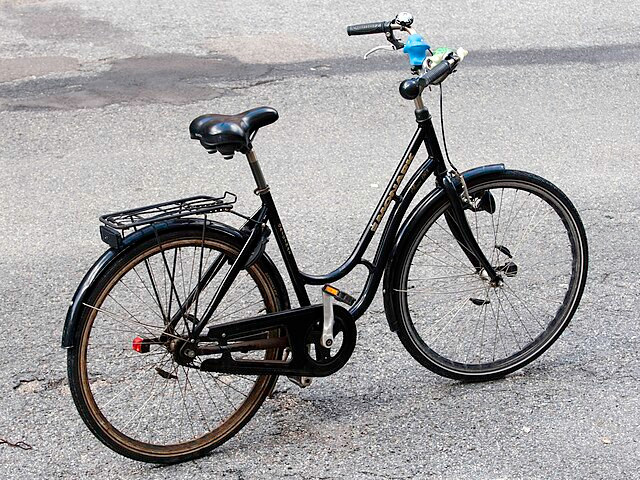bicycle: (58, 8, 591, 465)
